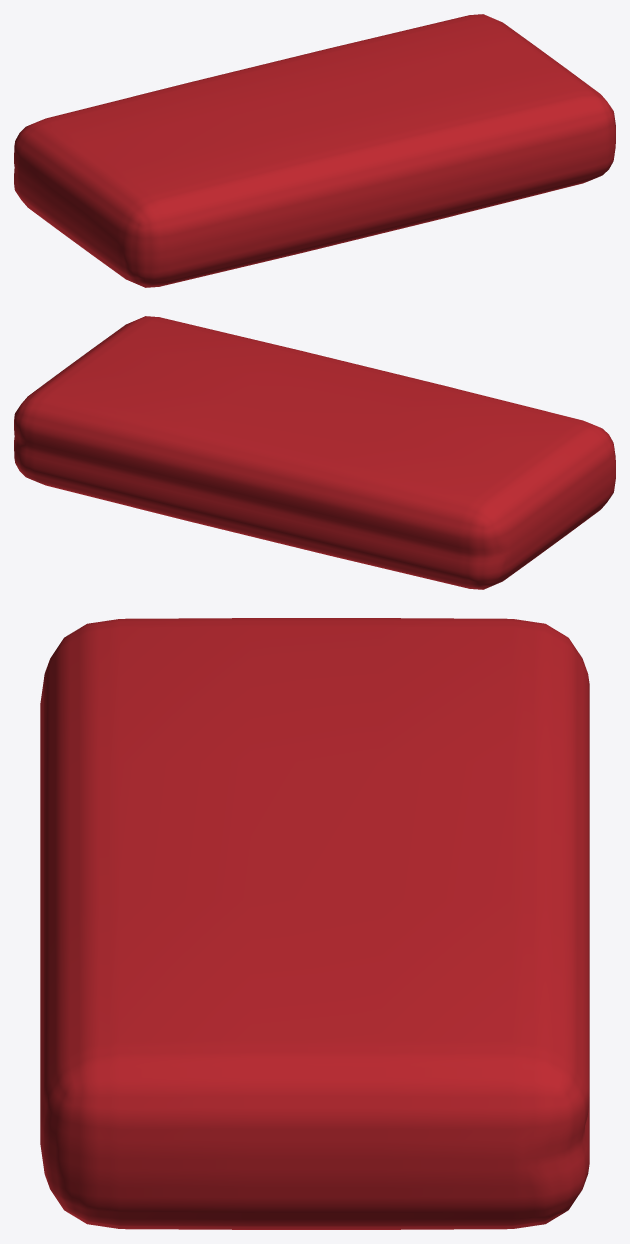
File: TowelFoldedRed.glb
3 renders of one model, top to bottom at view 1: azimuth 30°, elevation 25°; view 2: azimuth 150°, elevation 25°; view 3: azimuth 270°, elevation 25°, orthographic. The views are drawn at different scales.
Visible parts, largest first — view 1: FoldedBathTowel; view 2: FoldedBathTowel; view 3: FoldedBathTowel.
Boxes of the visible parts, box(x1,y1,x2,y2) form: FoldedBathTowel: box(14, 14, 615, 287); FoldedBathTowel: box(14, 316, 615, 589); FoldedBathTowel: box(40, 618, 589, 1229).
Bounding box in the file's own units: 0.33 × 0.0596 × 0.1592.
